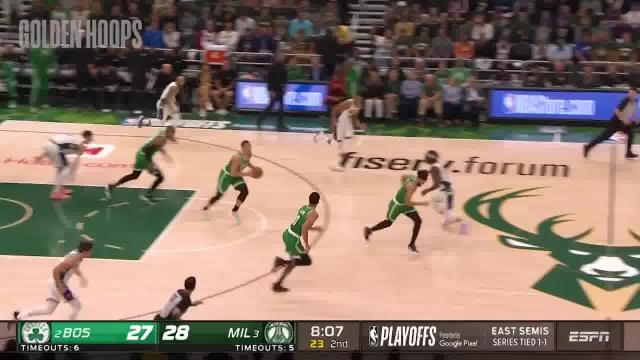ball-handler: (201, 137, 265, 228)
player: (107, 122, 176, 204), (274, 187, 324, 294), (373, 162, 428, 253), (35, 119, 94, 202), (40, 237, 95, 322), (422, 148, 470, 237), (325, 93, 367, 167), (154, 71, 186, 138)
